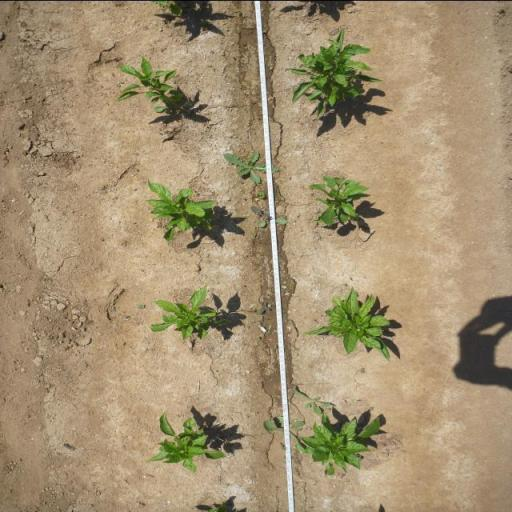plant: (283, 24, 386, 118), (303, 287, 392, 362), (297, 410, 383, 476), (146, 410, 228, 473), (142, 177, 220, 242), (148, 282, 232, 340), (303, 174, 372, 228), (114, 54, 185, 102)
weed: (222, 150, 280, 184), (262, 414, 304, 452), (291, 385, 337, 414), (249, 204, 288, 228), (152, 101, 194, 117), (256, 300, 272, 315), (196, 18, 212, 24), (257, 191, 266, 199), (137, 303, 145, 308), (252, 232, 258, 237), (132, 166, 138, 170), (342, 282, 348, 286), (274, 344, 278, 349), (282, 319, 288, 322), (370, 406, 374, 410), (258, 336, 260, 338)
